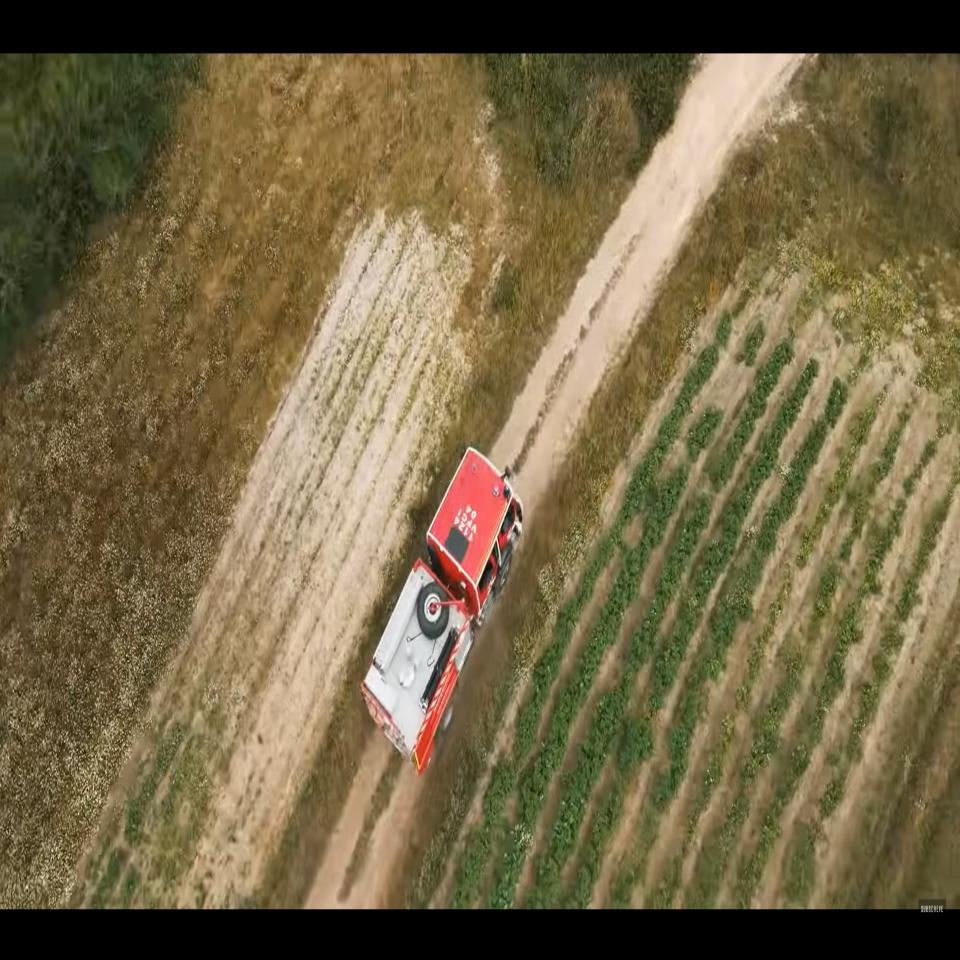viatura: (359, 446, 525, 781)
